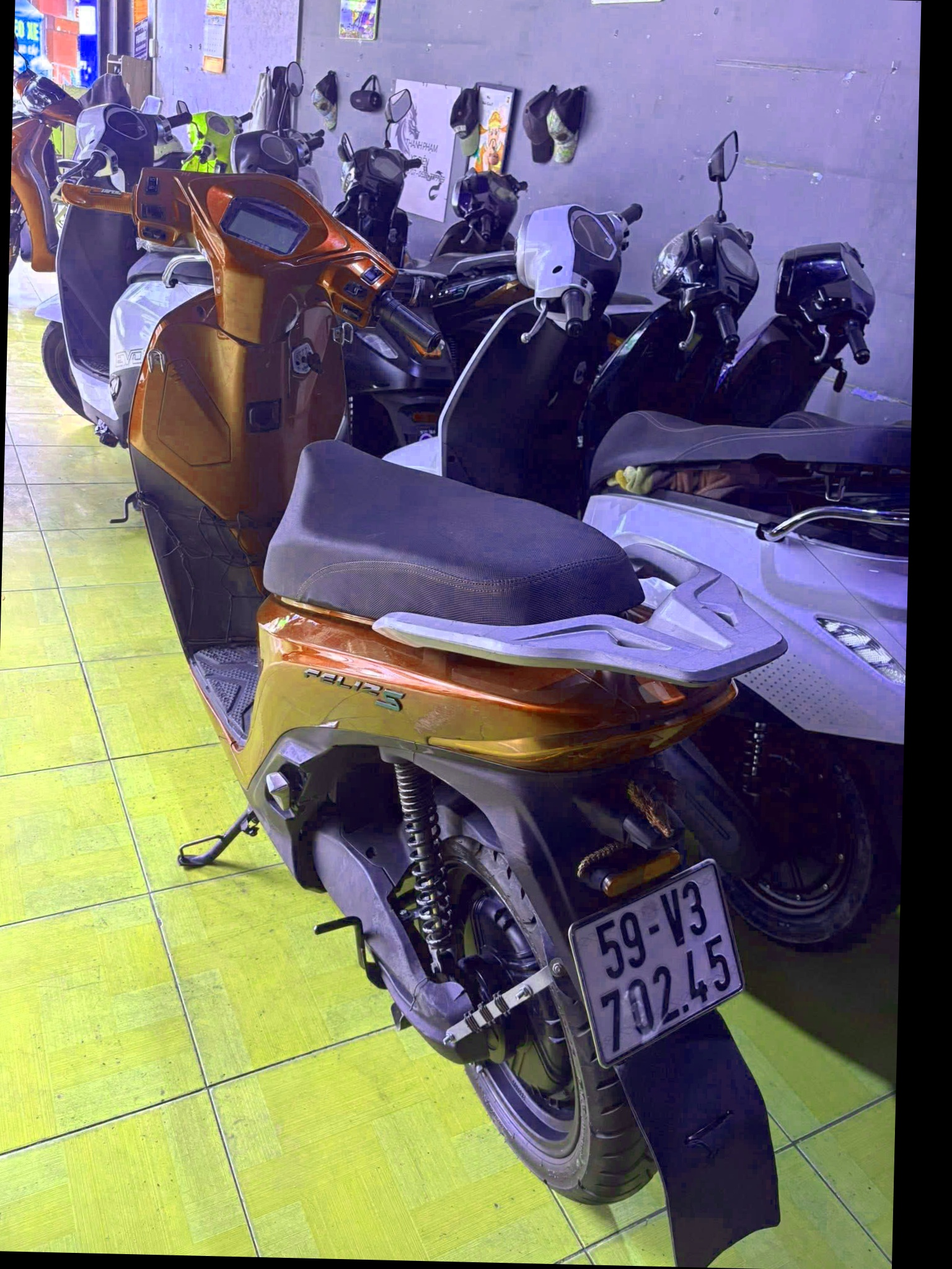Bien-so: (558, 853, 759, 1073)
